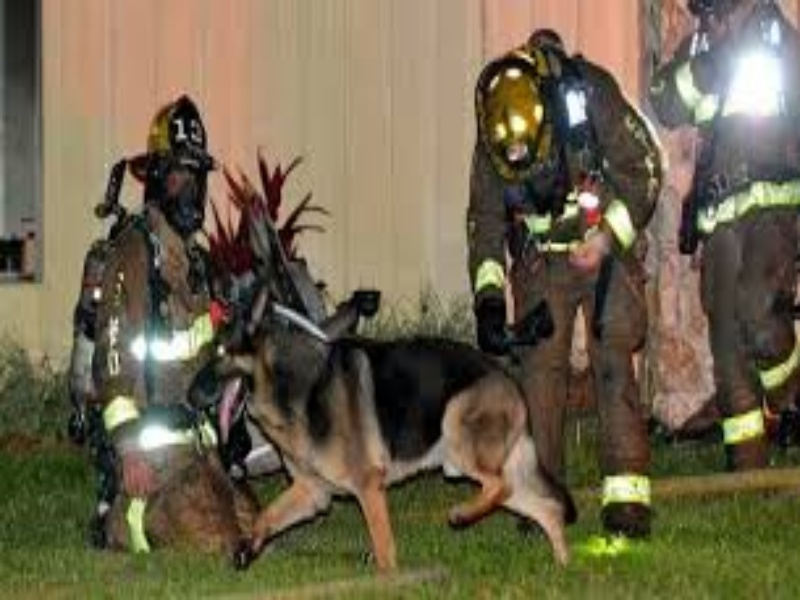dog: (184, 308, 597, 591)
